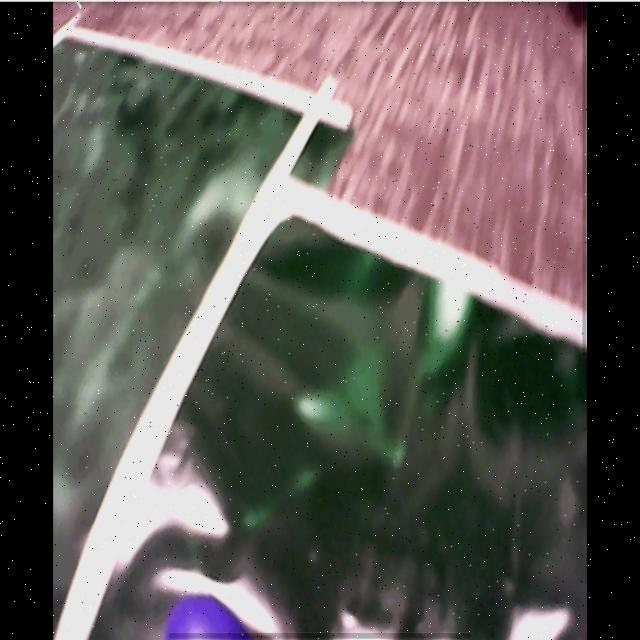ball: (166, 593, 247, 640)
